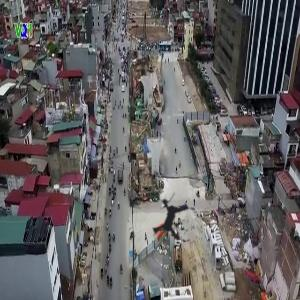drone: (127, 172, 220, 265)
